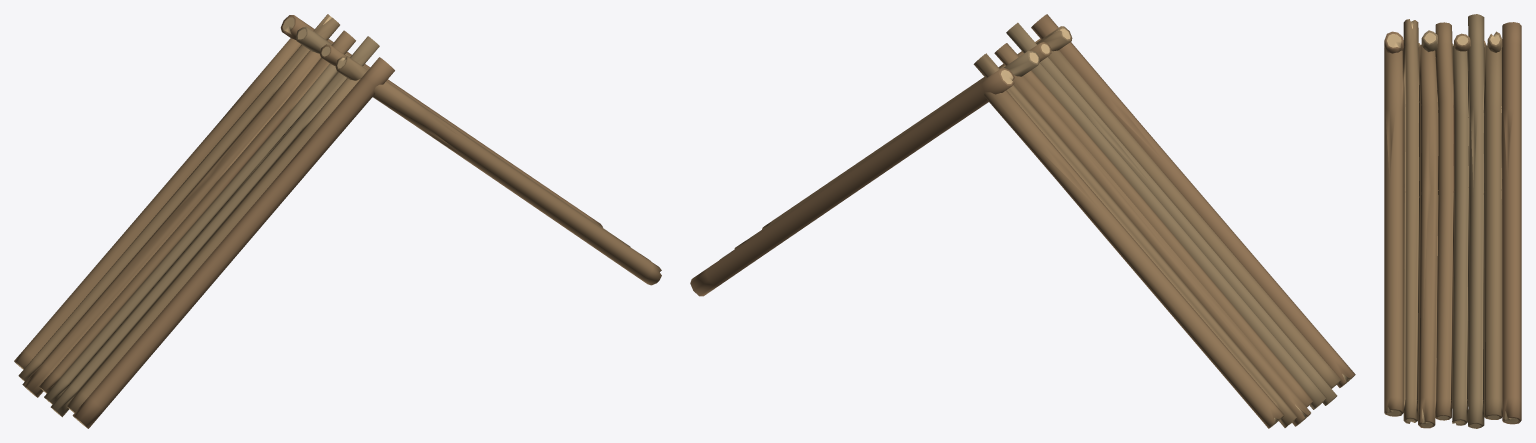
The model's file is rpgpp_ag_roof_01b_9x4x3.fbx.
3 renders of one model, left to right at view 1: azimuth 30°, elevation 25°; view 2: azimuth 150°, elevation 25°; view 3: azimuth 270°, elevation 25°, orthographic. The views are drawn at different scales.
Visible parts, largest first — view 1: rpgpp_ag_roof_01b_9x4x3; view 2: rpgpp_ag_roof_01b_9x4x3; view 3: rpgpp_ag_roof_01b_9x4x3.
Boxes of the visible parts, x1,y1,x2,y2 form: rpgpp_ag_roof_01b_9x4x3: (14,14,661,428); rpgpp_ag_roof_01b_9x4x3: (690,14,1355,428); rpgpp_ag_roof_01b_9x4x3: (1384,14,1521,428).
Size of the model in its own units: 13.75 by 6.71 by 3.
